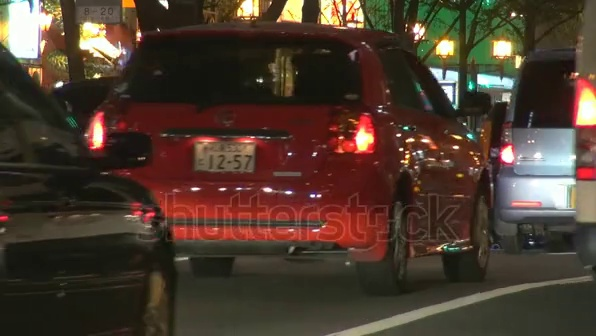licenseplate: (192, 134, 260, 176)
